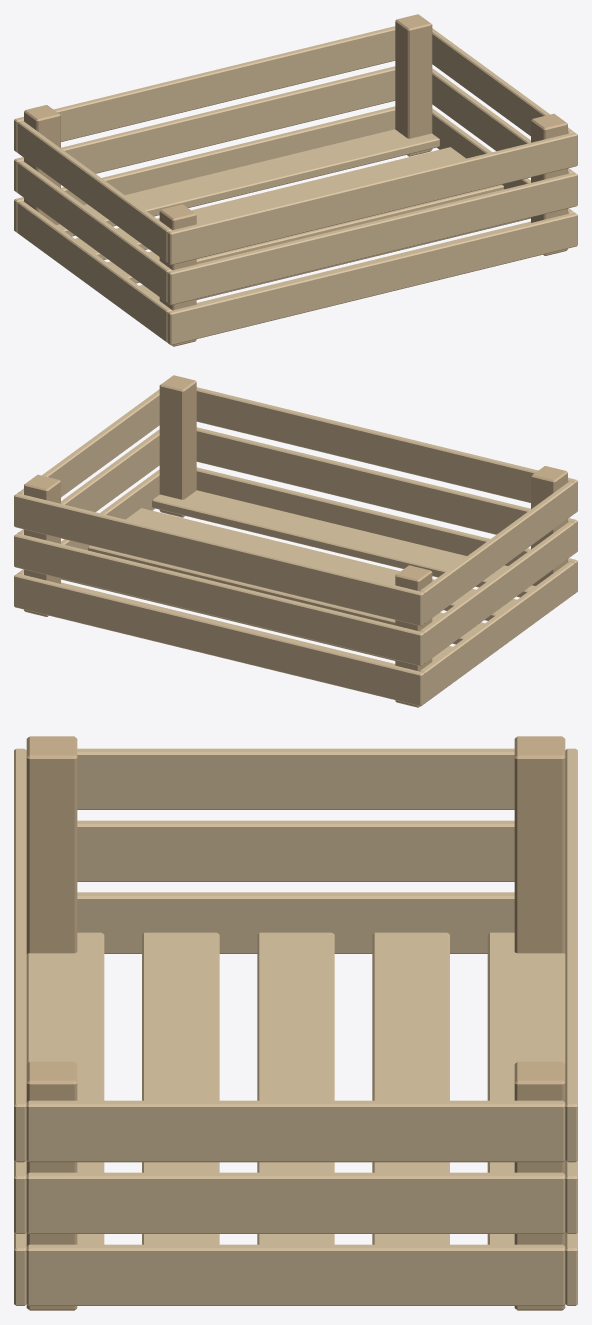
The model's file is fresh-produce-and-groceries-wooden-produce-crate-c45c1ef9__24446.glb.
3 views of the same model, one above another, from view 1: azimuth 30°, elevation 25°; view 2: azimuth 150°, elevation 25°; view 3: azimuth 270°, elevation 25° (orthographic). The views are drawn at different scales.
Parts seen in each view (by area): view 1: wooden-produce-crate; view 2: wooden-produce-crate; view 3: wooden-produce-crate.
Part boxes in pixels (bbox=[...]): wooden-produce-crate: bbox=[14, 14, 577, 346]; wooden-produce-crate: bbox=[14, 375, 577, 707]; wooden-produce-crate: bbox=[14, 736, 577, 1310].
Size of the model in its own units: 0.6 by 0.18 by 0.4.
